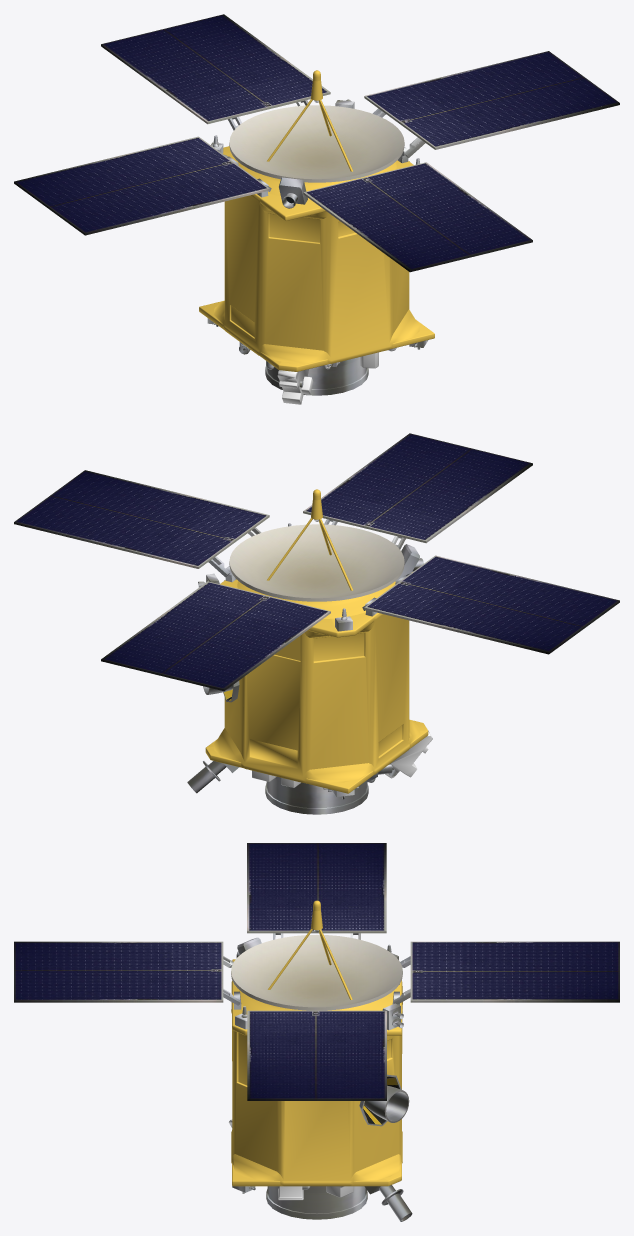
The model's file is near.gltf.
The picture shows the model from 3 angles, top to bottom: view 1: azimuth 30°, elevation 25°; view 2: azimuth 150°, elevation 25°; view 3: azimuth 270°, elevation 25°; orthographic projection.
Visible parts, largest first — view 1: shiny_panels, foil_gold, tex_01, foil_silver; view 2: shiny_panels, foil_gold, tex_01, foil_silver; view 3: shiny_panels, tex_01, foil_gold, foil_silver.
Part boxes in pixels (bbox=[...]): shiny_panels: bbox=[16, 15, 617, 269]; foil_gold: bbox=[199, 70, 434, 371]; tex_01: bbox=[14, 14, 619, 395]; foil_silver: bbox=[277, 347, 396, 404]; shiny_panels: bbox=[16, 434, 617, 688]; foil_gold: bbox=[205, 489, 428, 793]; tex_01: bbox=[14, 433, 619, 814]; foil_silver: bbox=[252, 731, 432, 789]; shiny_panels: bbox=[15, 843, 618, 1098]; tex_01: bbox=[14, 843, 619, 1221]; foil_gold: bbox=[231, 900, 402, 1186]; foil_silver: bbox=[229, 1119, 353, 1200].
Bounding box in the file's own units: 5.29 × 2.86 × 5.29.
Materials: 4 (2 with a texture image).
